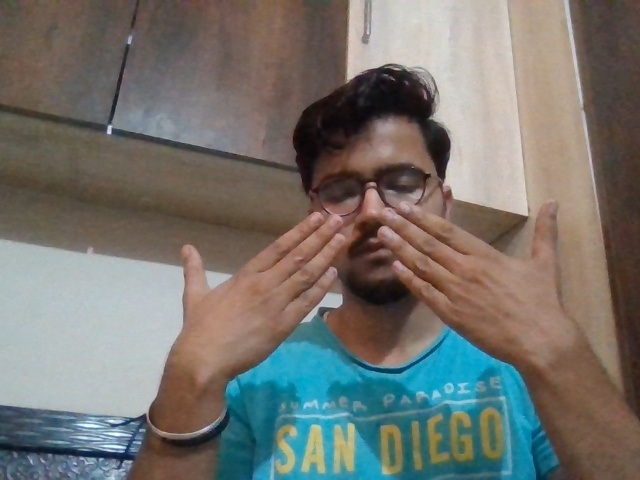thankyou: (174, 188, 590, 418)
